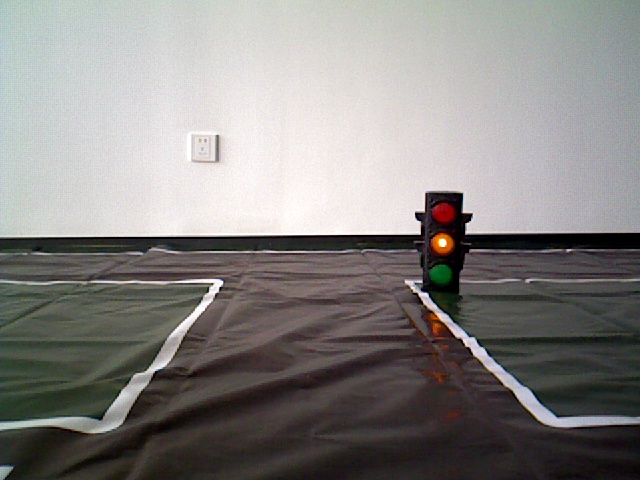yellow: (420, 188, 469, 292)
